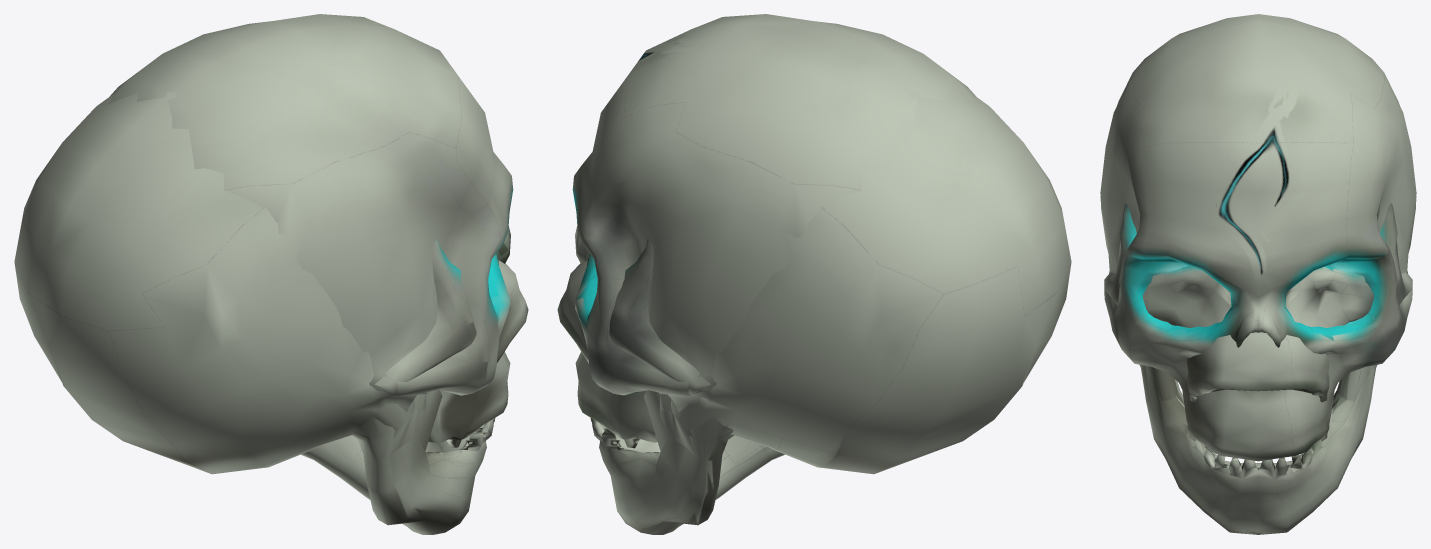
File: Skull.fbx
The picture shows the model from 3 angles, left to right: view 1: azimuth 30°, elevation 25°; view 2: azimuth 150°, elevation 25°; view 3: azimuth 270°, elevation 25°; orthographic projection. The views are drawn at different scales.
Visible parts, largest first — view 1: Skull, Skull.001; view 2: Skull, Skull.001; view 3: Skull, Skull.001.
Boxes of the visible parts, x1=… form: Skull: x1=107, y1=14, x2=513, y2=534; Skull.001: x1=14, y1=91, x2=528, y2=474; Skull: x1=572, y1=14, x2=978, y2=534; Skull.001: x1=557, y1=91, x2=1071, y2=474; Skull: x1=1100, y1=14, x2=1416, y2=534; Skull.001: x1=1100, y1=109, x2=1416, y2=402.
Size of the model in its own units: 89.22 by 94.14 by 61.44.
1 material, 1 textured.
